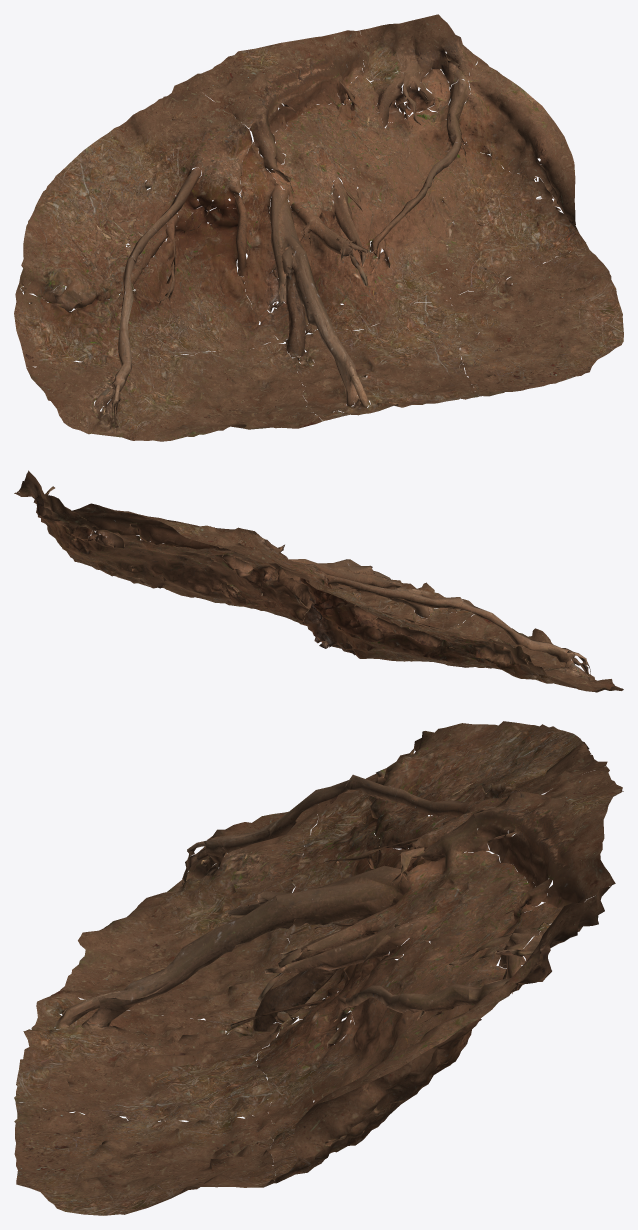
The model's file is root_cluster_01.glb.
3 views of the same model, one above another, from view 1: azimuth 30°, elevation 25°; view 2: azimuth 150°, elevation 25°; view 3: azimuth 270°, elevation 25° (orthographic). The views are drawn at different scales.
Visible parts, largest first — view 1: root_cluster_01; view 2: root_cluster_01; view 3: root_cluster_01.
Boxes of the visible parts, x1=… form: root_cluster_01: x1=14, y1=14, x2=623, y2=441; root_cluster_01: x1=14, y1=470, x2=623, y2=692; root_cluster_01: x1=14, y1=721, x2=623, y2=1215.
Size of the model in its own units: 4.12 by 1.51 by 2.69.
1 material, 1 textured.
